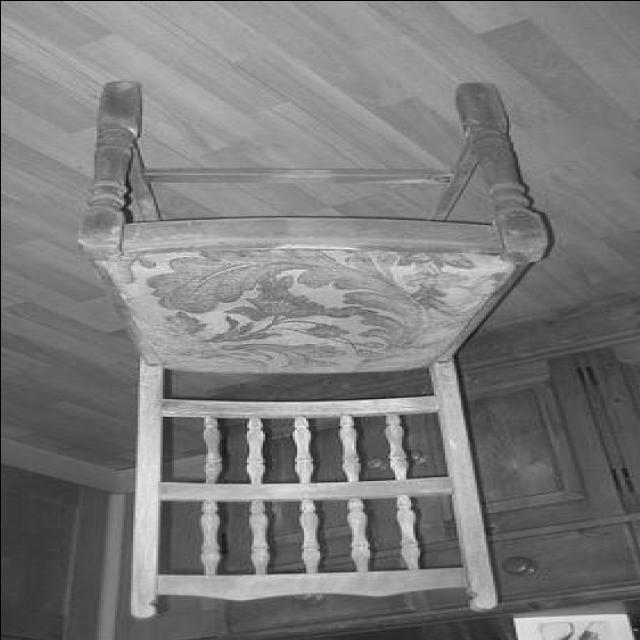chair: (82, 79, 552, 618)
